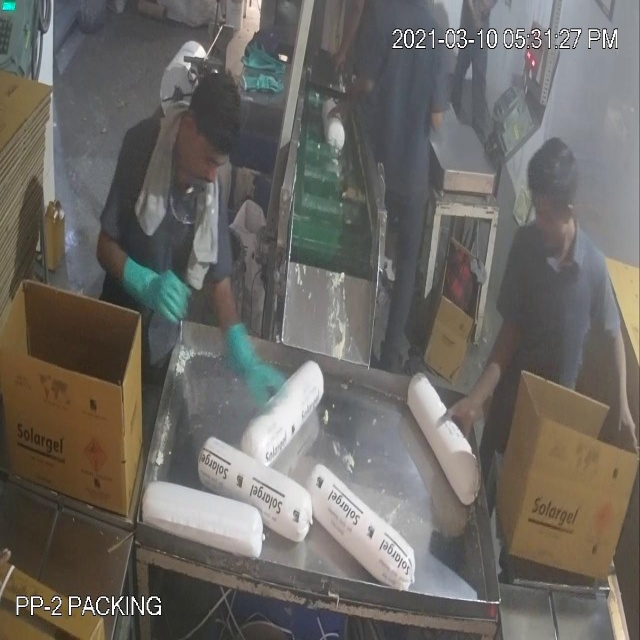Guantes: (218, 302, 291, 452), (118, 250, 194, 341)
Sin_guantes: (440, 272, 521, 463), (599, 316, 640, 475), (323, 73, 383, 137)
